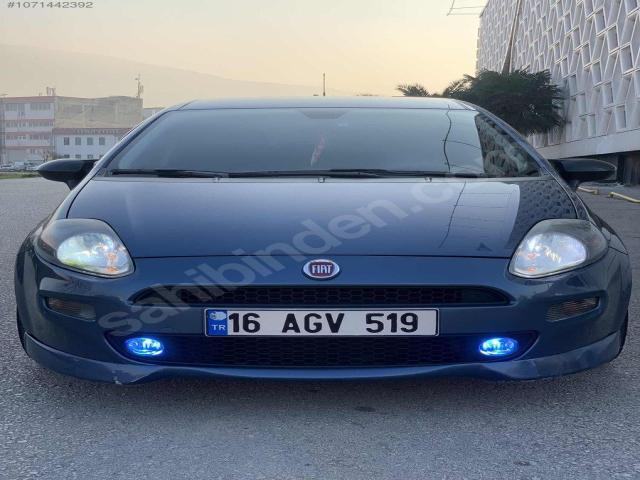plaka: (206, 309, 438, 336)
